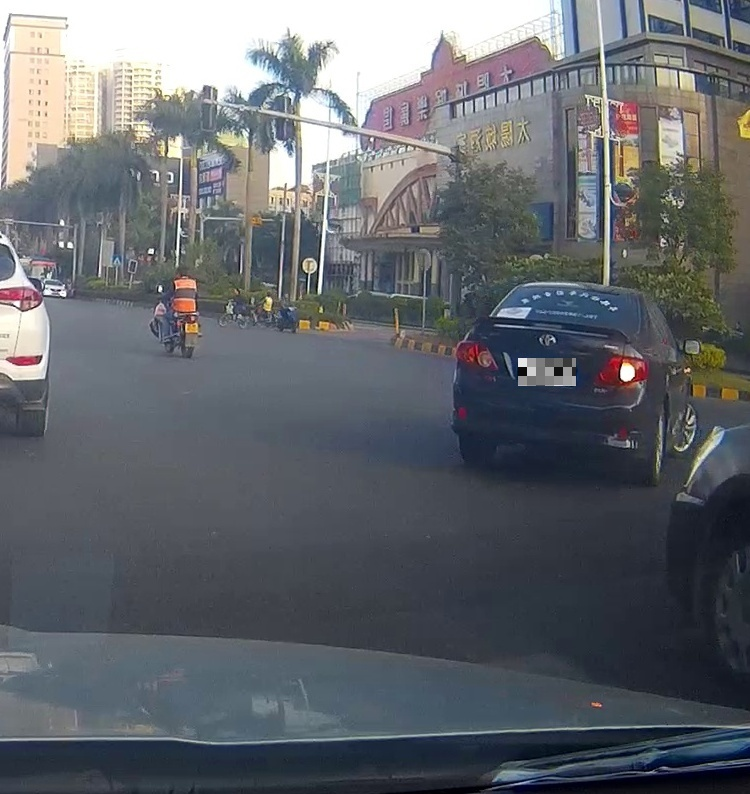L_light: (454, 340, 499, 371)
R_light: (594, 354, 647, 389)
T_light: (560, 287, 591, 295)
day-right: (451, 280, 648, 485)
plate_1: (518, 358, 576, 386)
